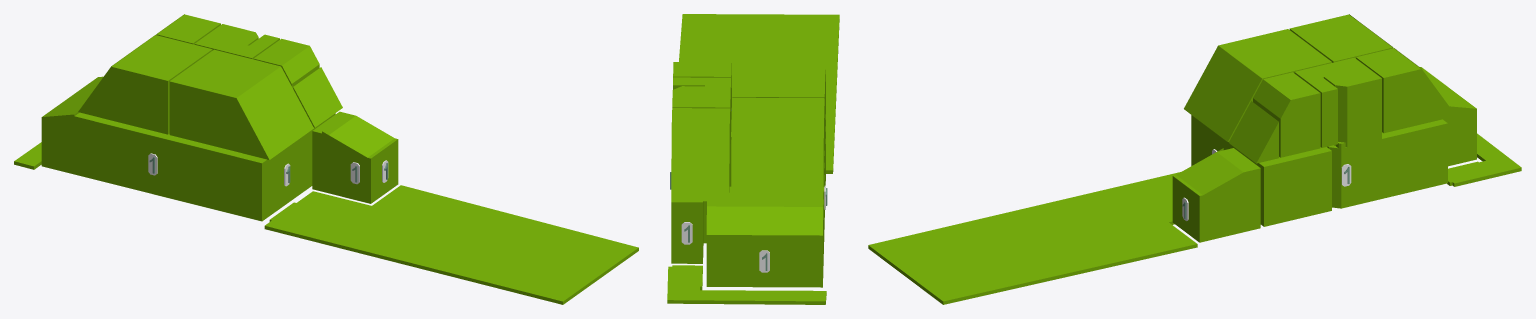
3 renders of one model, left to right at view 1: azimuth 30°, elevation 25°; view 2: azimuth 150°, elevation 25°; view 3: azimuth 270°, elevation 25°, orthographic. The views are drawn at different scales.
Parts seen in each view (by area): view 1: g_15, g_7, g_1, g_0, g_8, g_5, g_6, g_12, g_10, g_9, g_11, g_14; view 2: g_1, g_8, g_15, g_9, g_7, g_4, g_14, g_13, g_10, g_6, g_11, g_21 (+2 smaller); view 3: g_15, g_7, g_5, g_0, g_9, g_4, g_6, g_2, g_11, g_8, g_10, g_1 (+3 smaller).
Boxes of the visible parts, bbox=[...] form: g_15: bbox=[264, 185, 638, 304]; g_7: bbox=[169, 49, 313, 159]; g_1: bbox=[41, 76, 201, 204]; g_0: bbox=[196, 113, 335, 221]; g_8: bbox=[78, 35, 212, 134]; g_5: bbox=[312, 111, 398, 203]; g_6: bbox=[253, 38, 319, 88]; g_12: bbox=[293, 67, 342, 127]; g_10: bbox=[194, 32, 279, 59]; g_9: bbox=[156, 14, 220, 44]; g_11: bbox=[211, 24, 258, 45]; g_14: bbox=[14, 142, 41, 169]; g_1: bbox=[706, 151, 824, 287]; g_8: bbox=[731, 97, 824, 201]; g_15: bbox=[679, 14, 839, 173]; g_9: bbox=[671, 108, 730, 201]; g_7: bbox=[732, 62, 825, 150]; g_4: bbox=[671, 180, 729, 263]; g_14: bbox=[699, 290, 826, 304]; g_13: bbox=[667, 265, 702, 303]; g_10: bbox=[673, 77, 730, 155]; g_6: bbox=[673, 62, 731, 131]; g_11: bbox=[672, 86, 704, 108]; g_21: bbox=[681, 222, 692, 244]; g_15: bbox=[868, 172, 1197, 304]; g_7: bbox=[1184, 29, 1331, 141]; g_5: bbox=[1172, 148, 1260, 242]; g_0: bbox=[1191, 115, 1331, 226]; g_9: bbox=[1356, 48, 1455, 133]; g_4: bbox=[1382, 119, 1447, 198]; g_6: bbox=[1253, 72, 1320, 157]; g_2: bbox=[1327, 134, 1384, 208]; g_11: bbox=[1324, 70, 1381, 142]; g_8: bbox=[1289, 14, 1393, 62]; g_10: bbox=[1294, 57, 1370, 147]; g_1: bbox=[1420, 67, 1476, 166].
Bounding box in the file's own units: 17.59 × 5.36 × 25.43.
